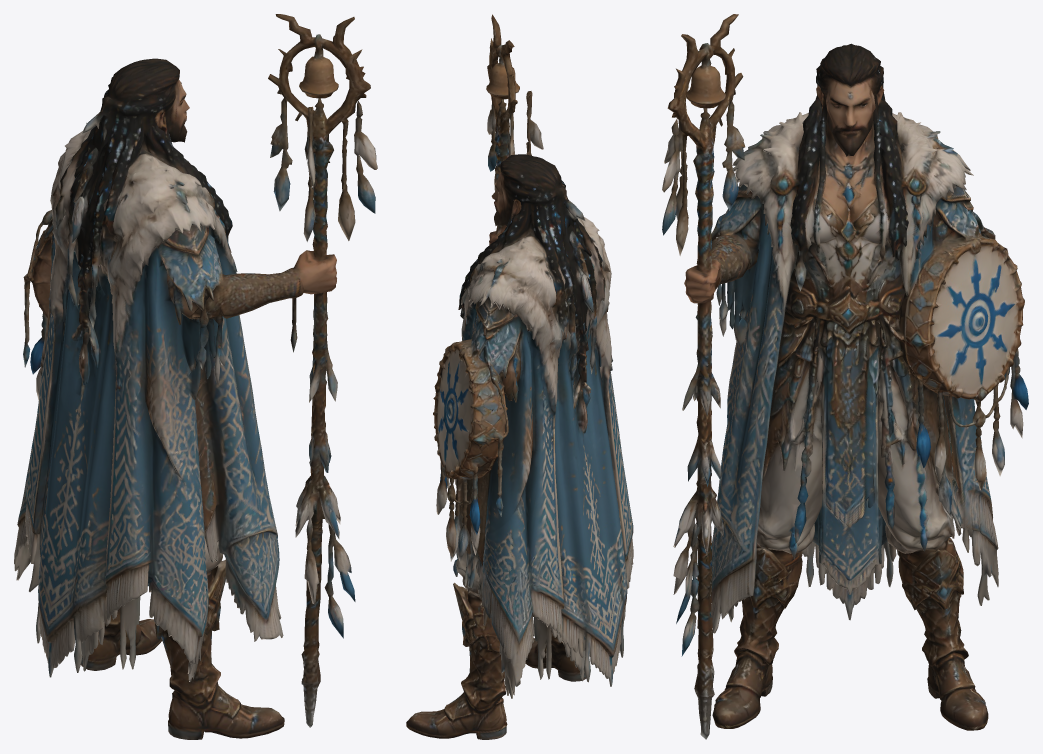
The model's file is drumcalleralt_T2-tripo.glb.
3 renders of one model, left to right at view 1: azimuth 30°, elevation 25°; view 2: azimuth 150°, elevation 25°; view 3: azimuth 270°, elevation 25°, orthographic. The views are drawn at different scales.
Visible parts, largest first — view 1: tripo_node_8a402c6d-0750-46ba-bdf3-9448ca4e38ad; view 2: tripo_node_8a402c6d-0750-46ba-bdf3-9448ca4e38ad; view 3: tripo_node_8a402c6d-0750-46ba-bdf3-9448ca4e38ad.
Boxes of the visible parts, left/top/right/bottom form: tripo_node_8a402c6d-0750-46ba-bdf3-9448ca4e38ad: left=14, top=14, right=377, bottom=739; tripo_node_8a402c6d-0750-46ba-bdf3-9448ca4e38ad: left=406, top=14, right=633, bottom=739; tripo_node_8a402c6d-0750-46ba-bdf3-9448ca4e38ad: left=662, top=14, right=1028, bottom=739.
Bounding box in the file's own units: 0.3494 × 1 × 0.4603.
1 material, 1 textured.
